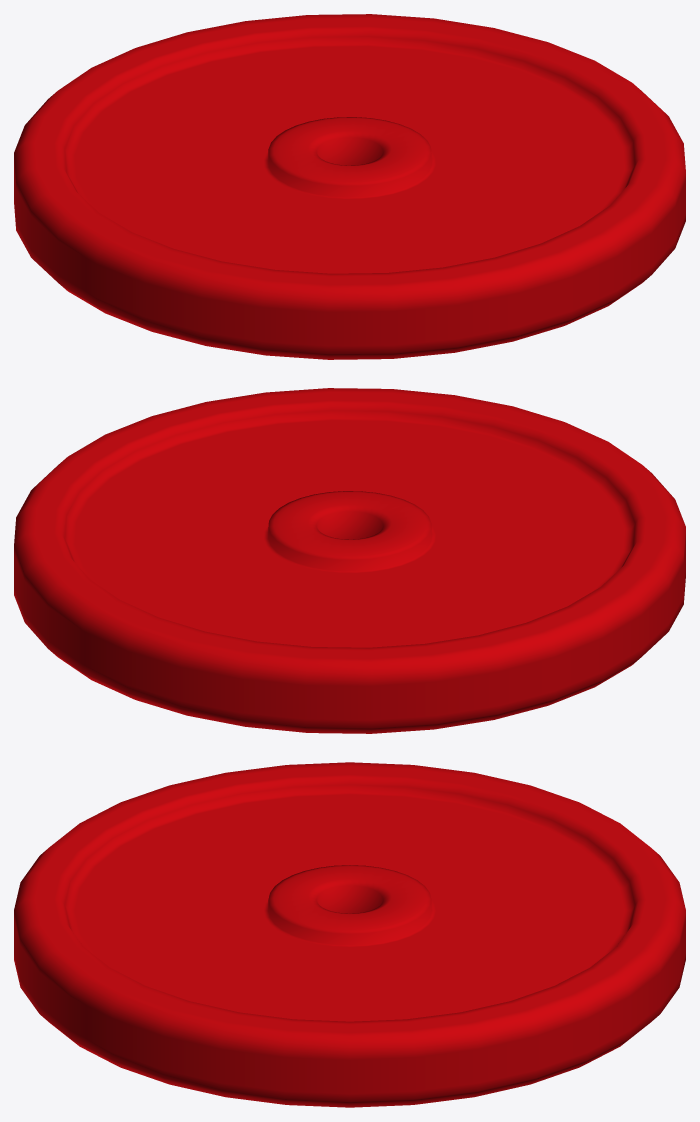
The model's file is Plate3.fbx.
3 renders of one model, top to bottom at view 1: azimuth 30°, elevation 25°; view 2: azimuth 150°, elevation 25°; view 3: azimuth 270°, elevation 25°, orthographic.
Visible parts, largest first — view 1: Cylinder.014; view 2: Cylinder.014; view 3: Cylinder.014.
Boxes of the visible parts, <box> form: Cylinder.014: <box>14,14,685,359</box>; Cylinder.014: <box>14,388,685,733</box>; Cylinder.014: <box>14,762,685,1107</box>.
Bounding box in the file's own units: 45.97 × 5.8 × 45.97.
